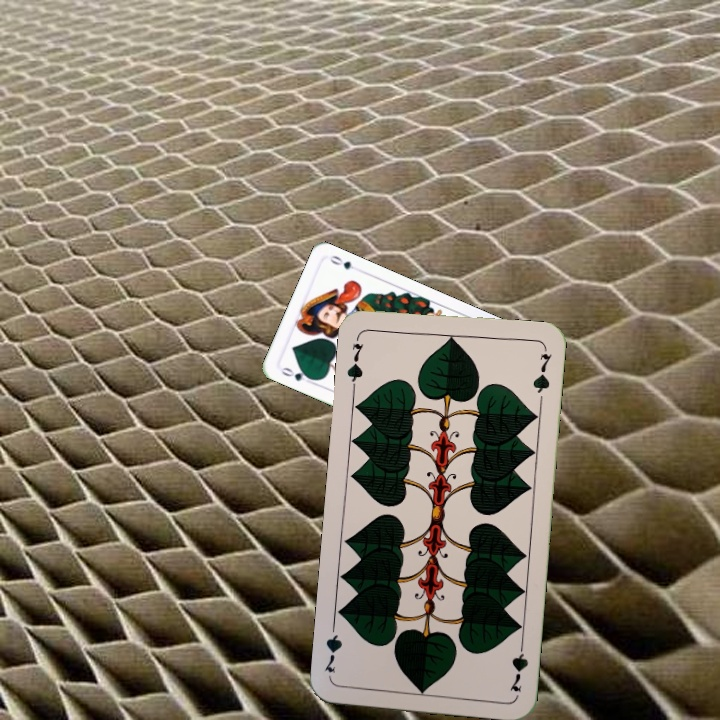G7: (505, 636, 531, 695), (342, 339, 366, 390)
GO: (277, 363, 316, 384)
